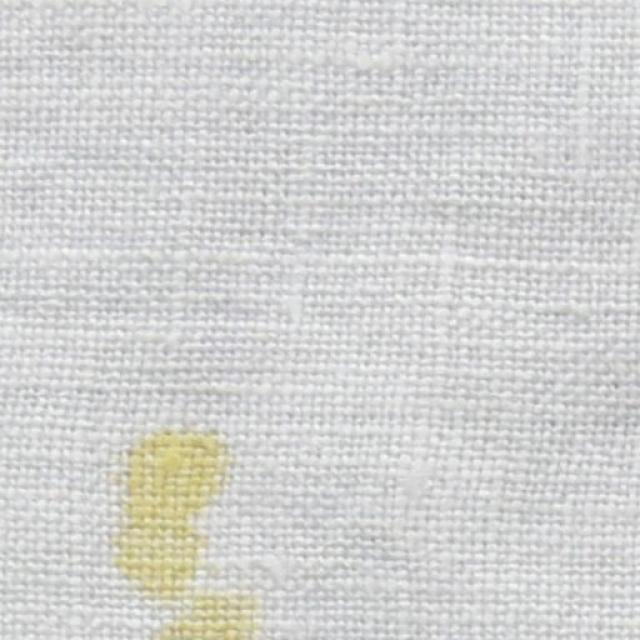Stain: (113, 412, 253, 640)
